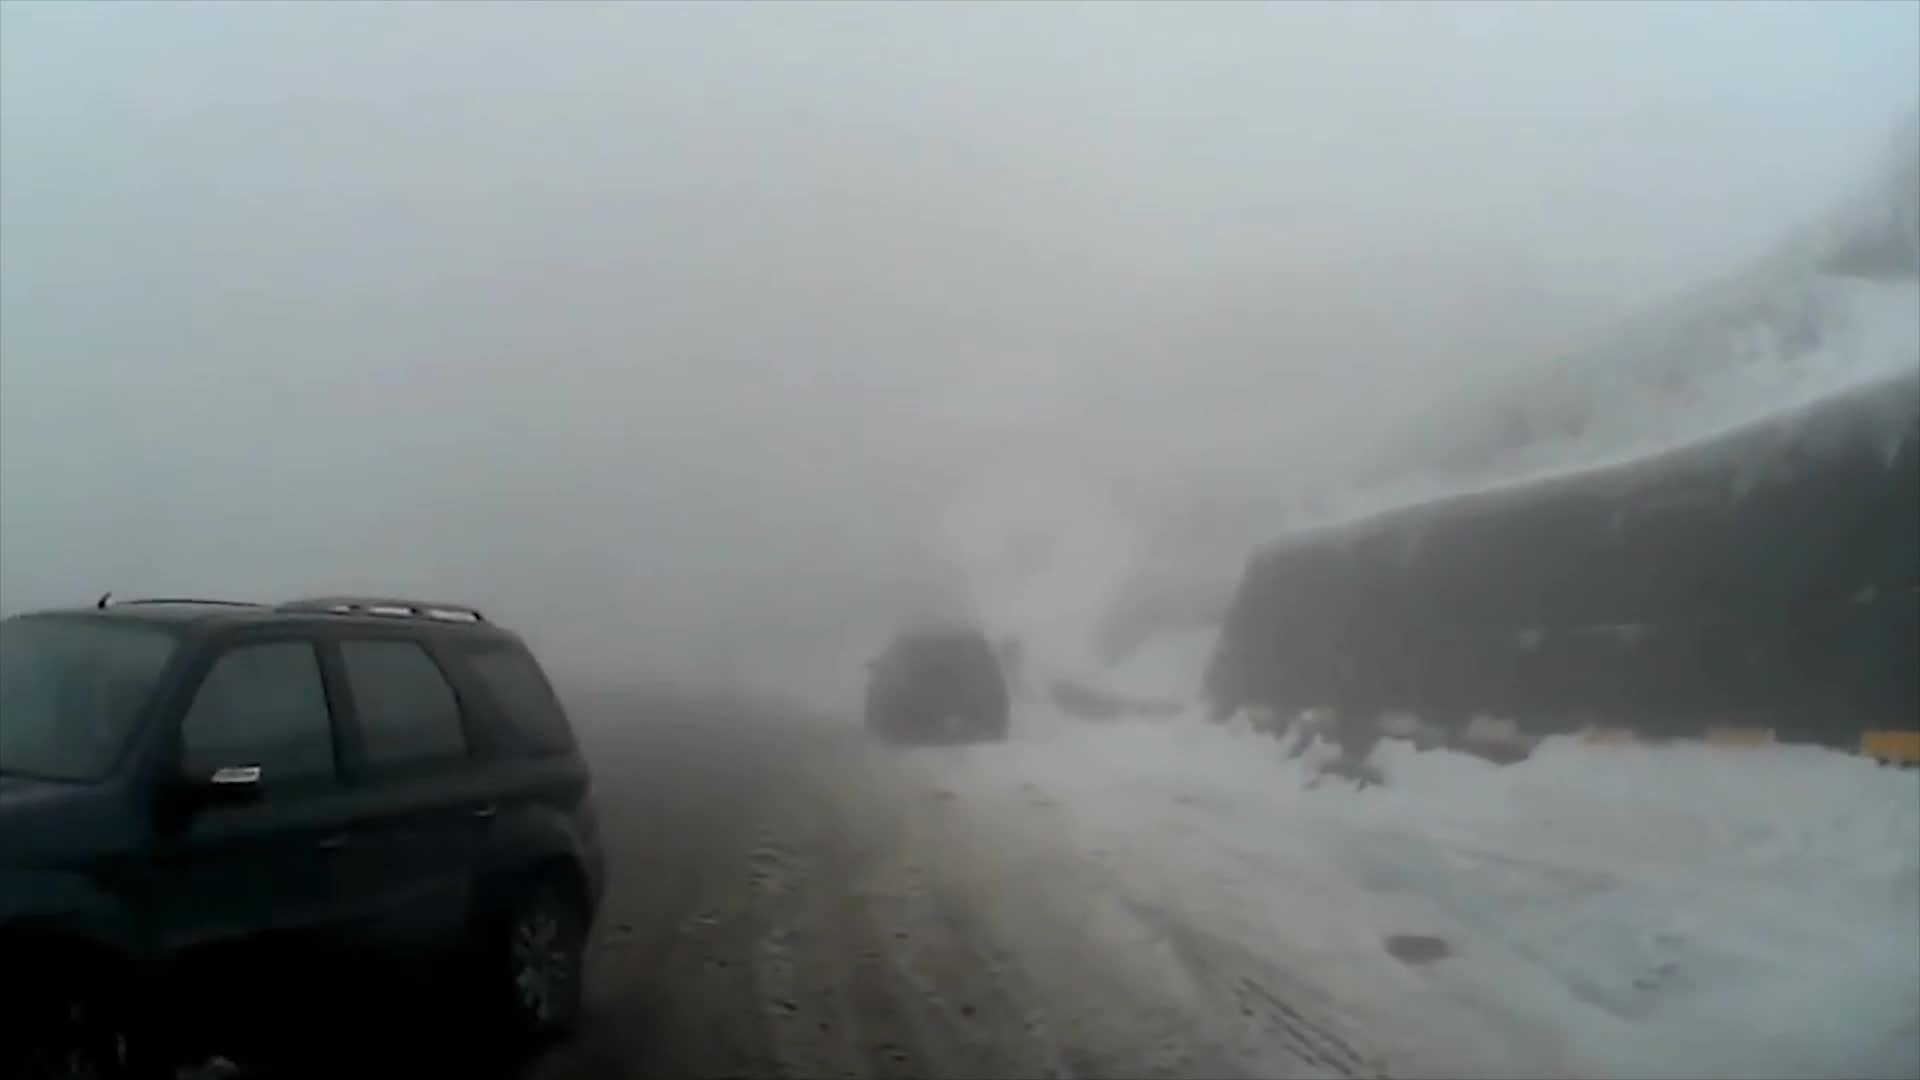vehicle: (0, 589, 607, 1079), (860, 622, 1007, 750)
